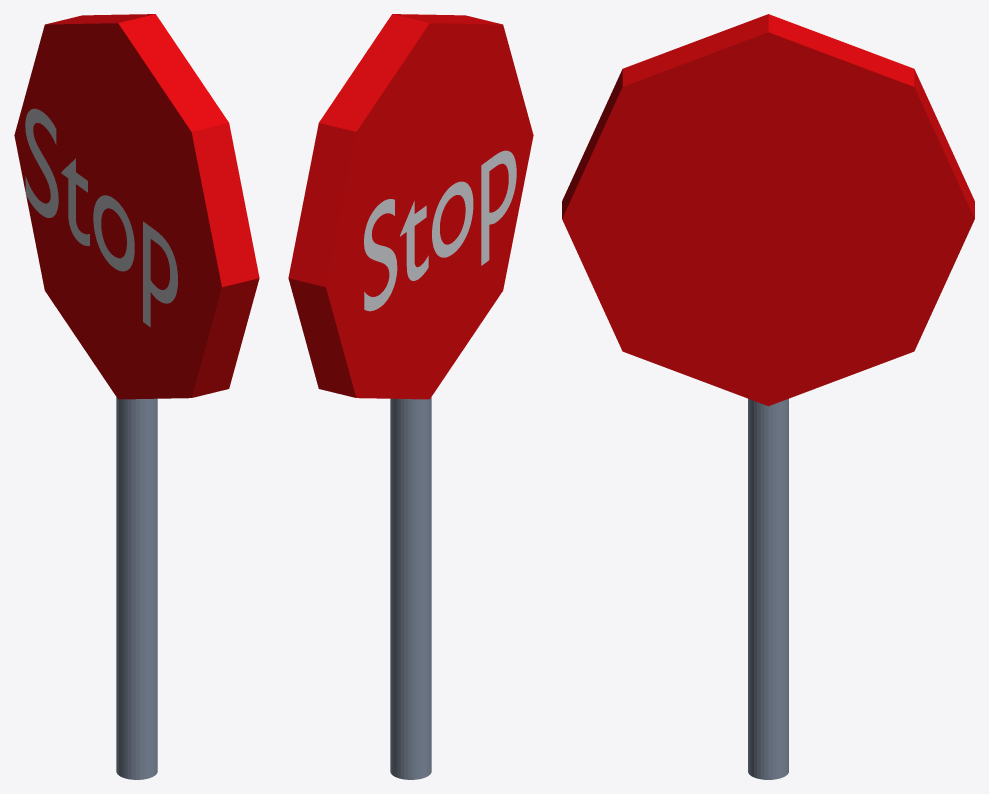
File: stopsign.fbx
The picture shows the model from 3 angles, left to right: view 1: azimuth 30°, elevation 25°; view 2: azimuth 150°, elevation 25°; view 3: azimuth 270°, elevation 25°; orthographic projection.
Visible parts, largest first — view 1: Cylinder.001, Cylinder, Text; view 2: Cylinder.001, Cylinder, Text; view 3: Cylinder.001, Cylinder.
Part boxes in pixels (x1,y1,x2,y2): Cylinder.001: [14, 14, 259, 399]; Cylinder: [116, 397, 157, 779]; Text: [25, 108, 177, 327]; Cylinder.001: [288, 14, 533, 399]; Cylinder: [390, 397, 431, 779]; Text: [364, 150, 516, 311]; Cylinder.001: [562, 14, 974, 406]; Cylinder: [748, 398, 788, 779].
Size of the model in its own units: 28.42 by 400 by 200.
